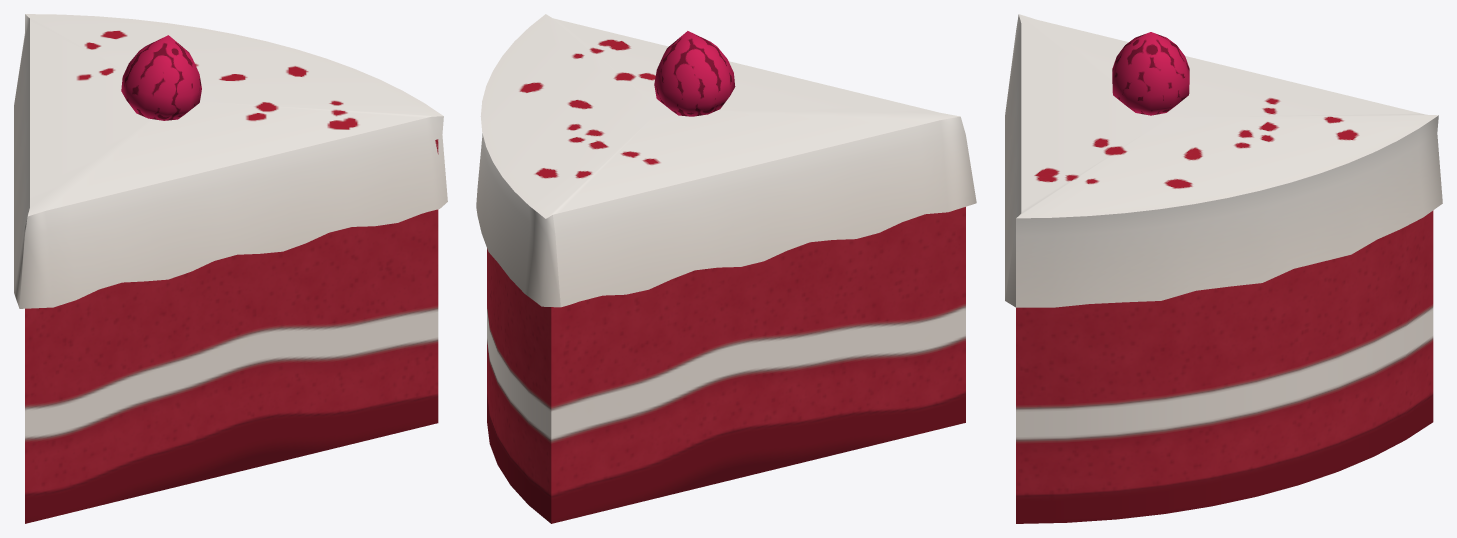
File: redvelvet_slice.glb
3 renders of one model, left to right at view 1: azimuth 30°, elevation 25°; view 2: azimuth 150°, elevation 25°; view 3: azimuth 270°, elevation 25°, orthographic.
Parts seen in each view (by area): view 1: RedVelvetSlice; view 2: RedVelvetSlice; view 3: RedVelvetSlice.
Part boxes in pixels (bbox=[...]): RedVelvetSlice: bbox=[14, 14, 447, 523]; RedVelvetSlice: bbox=[476, 14, 976, 523]; RedVelvetSlice: bbox=[1005, 14, 1442, 523].
Bounding box in the file's own units: 1.04 × 0.8981 × 0.9086.
1 material, 1 textured.
